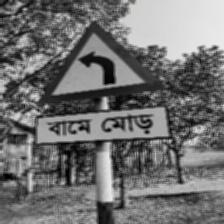Left-Turn: (33, 22, 175, 147)
